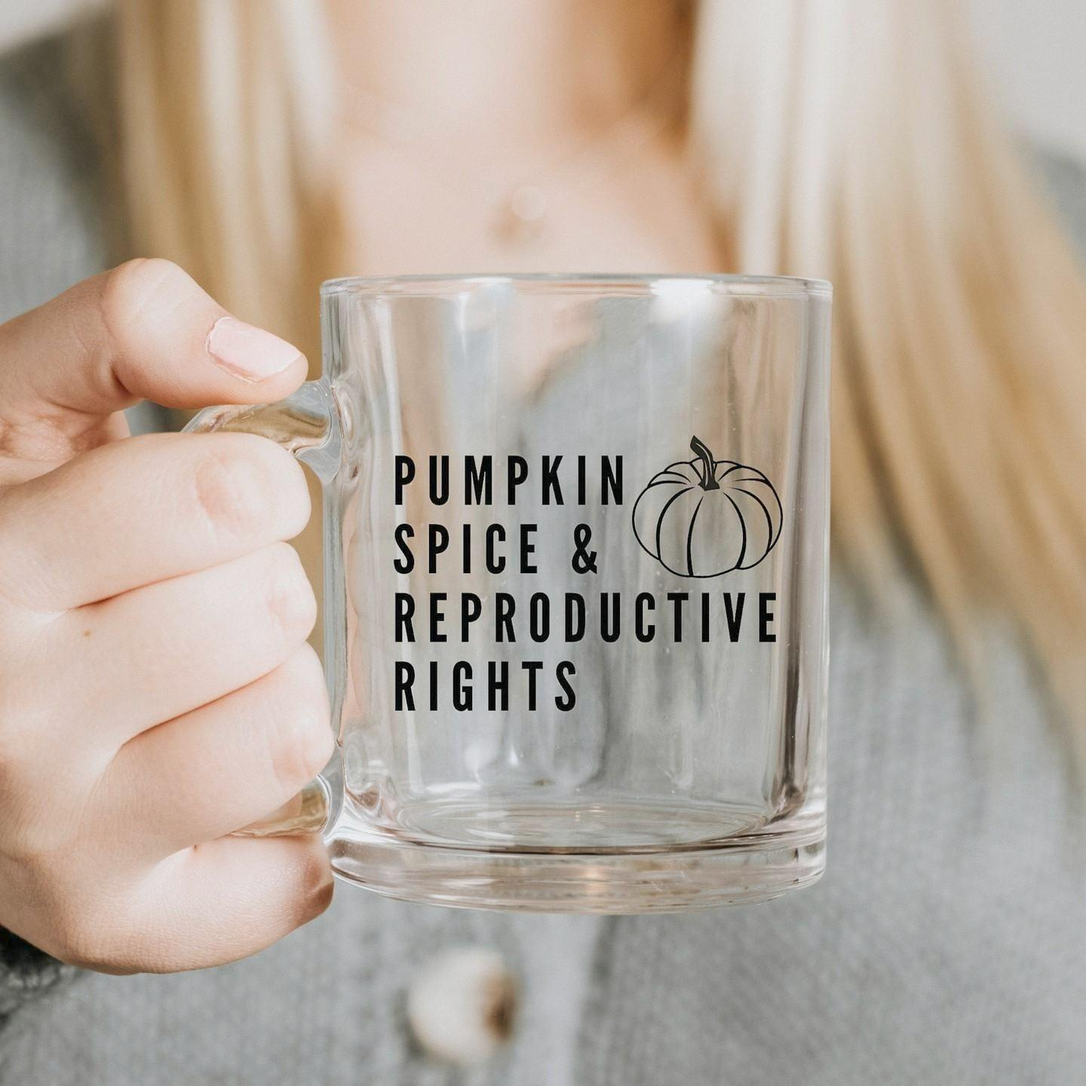glass-mug: (176, 250, 862, 926)
